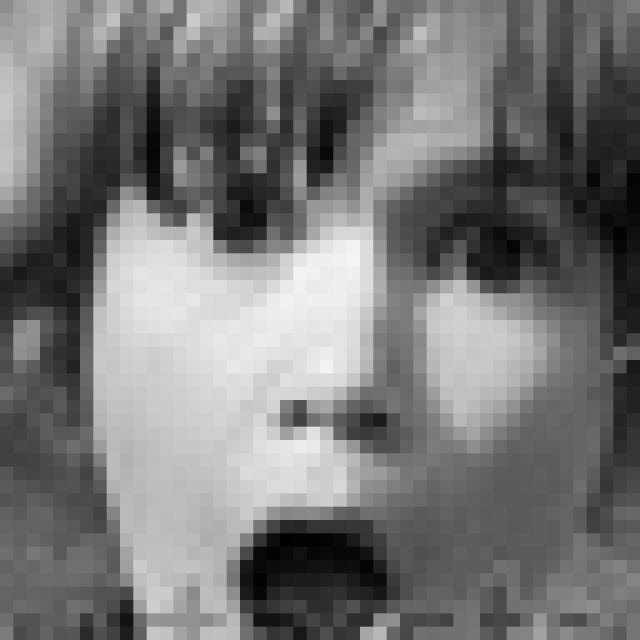surprise: (142, 111, 592, 640)
